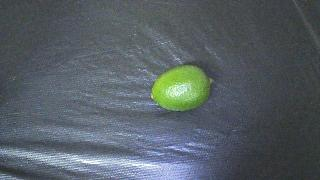LOCAL: (152, 65, 214, 111)
